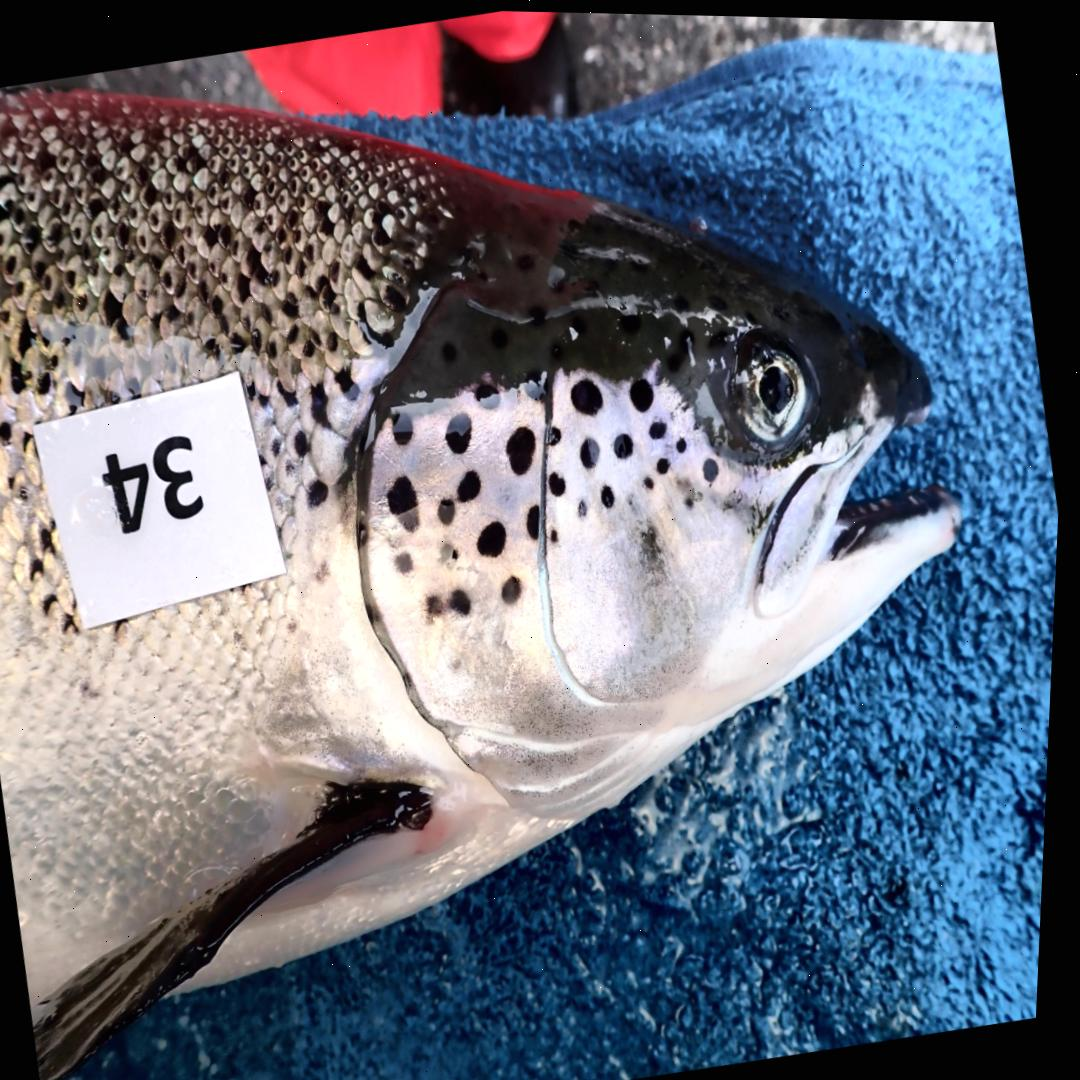spot: (389, 473, 422, 528), (509, 422, 539, 472), (573, 374, 605, 412), (447, 410, 475, 450), (480, 517, 510, 554), (631, 373, 656, 409), (459, 468, 484, 499), (477, 378, 503, 407), (394, 408, 416, 442), (451, 585, 476, 614), (582, 435, 603, 465), (615, 429, 637, 456), (505, 573, 526, 601), (440, 495, 459, 522), (396, 549, 417, 573), (529, 502, 544, 535), (431, 592, 449, 617), (528, 377, 549, 398), (551, 469, 569, 493), (650, 415, 670, 436), (705, 454, 722, 478), (604, 482, 618, 506), (445, 542, 462, 560), (549, 423, 565, 441), (659, 452, 673, 471), (361, 521, 371, 544), (580, 495, 591, 515), (679, 432, 690, 450), (646, 472, 658, 487), (554, 525, 562, 539), (689, 492, 697, 504)
